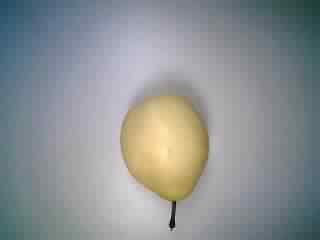pear: (108, 87, 217, 236)
